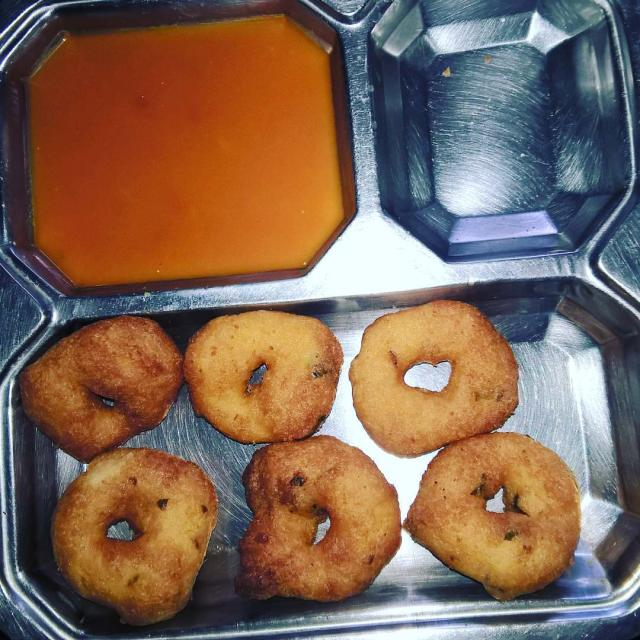Wet Waste: (27, 12, 352, 279), (49, 464, 221, 617), (236, 449, 400, 603), (411, 445, 586, 581), (354, 304, 522, 439), (24, 325, 191, 457), (178, 326, 340, 437)
